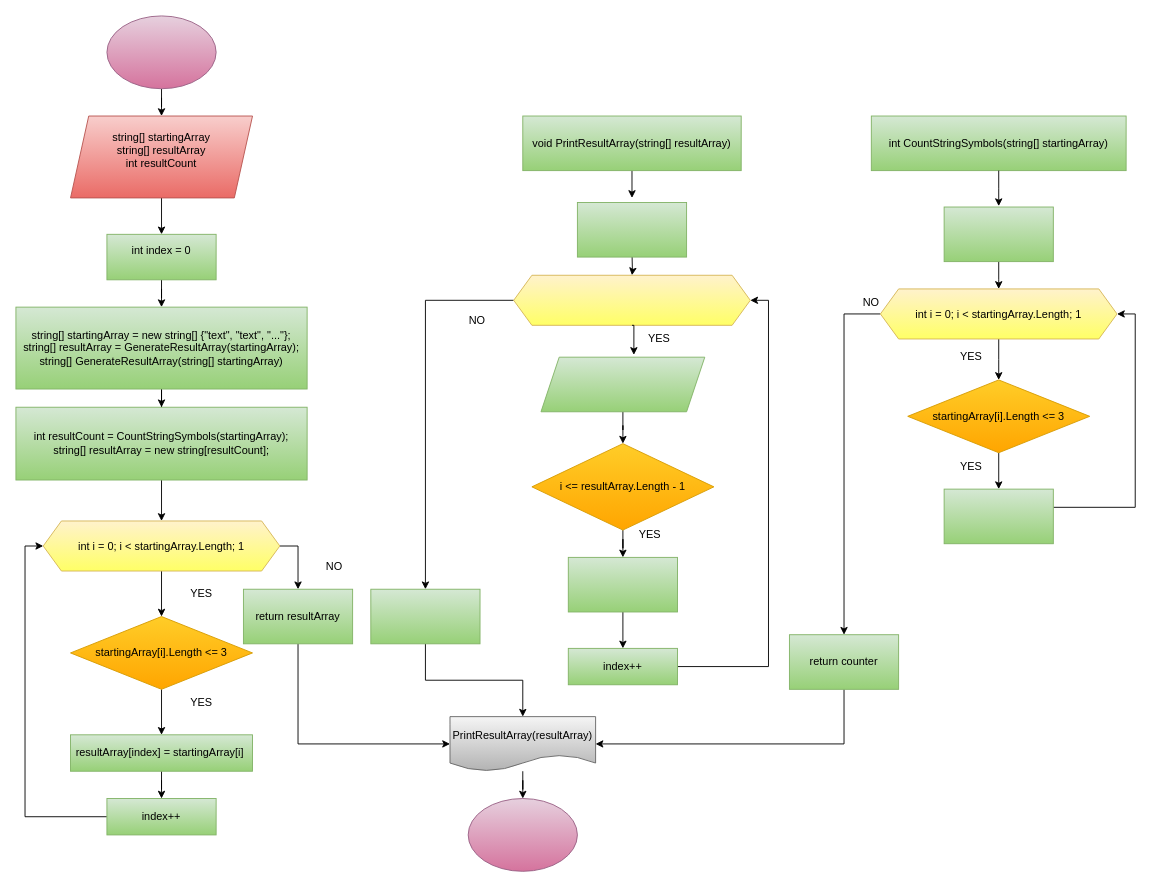
Image size: 1158x887. Some labels were removed from this diagram. Each missing label, with the centre of its shape:
Console.Write(";"): (x=622, y=584)
Console.Write("["): (x=631, y=229)
Console.Write(resultArray[i]): (x=622, y=384)
Console.WriteLine("]"): (x=425, y=616)
counter++: (x=998, y=516)
FINISH: (x=522, y=834)
int counter = 0: (x=998, y=234)
int i = 0; i < resultArray.Length; 1: (x=631, y=299)
START: (x=161, y=52)
